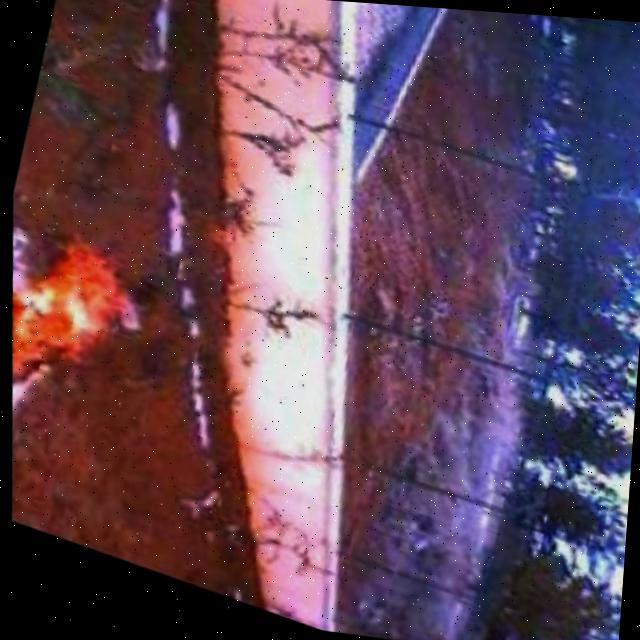fire: (0, 220, 150, 435)
